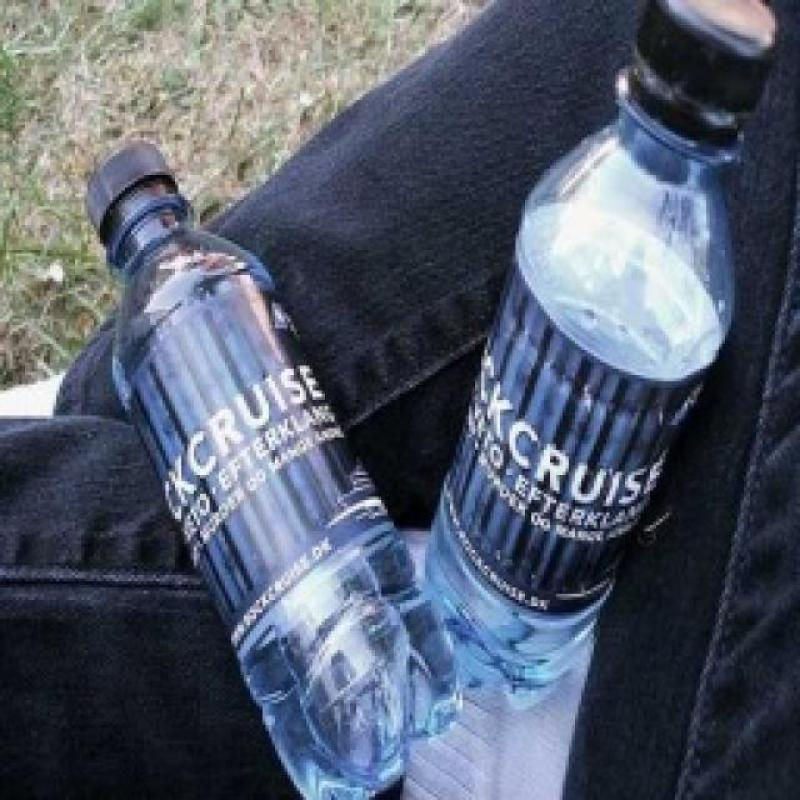botella: (426, 0, 780, 712), (82, 140, 462, 800)
